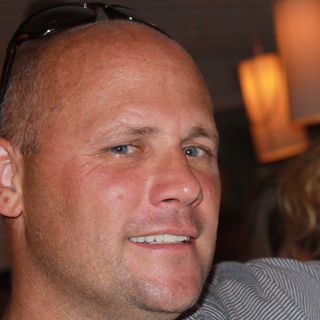eye: (98, 139, 147, 161), (174, 139, 215, 164)
